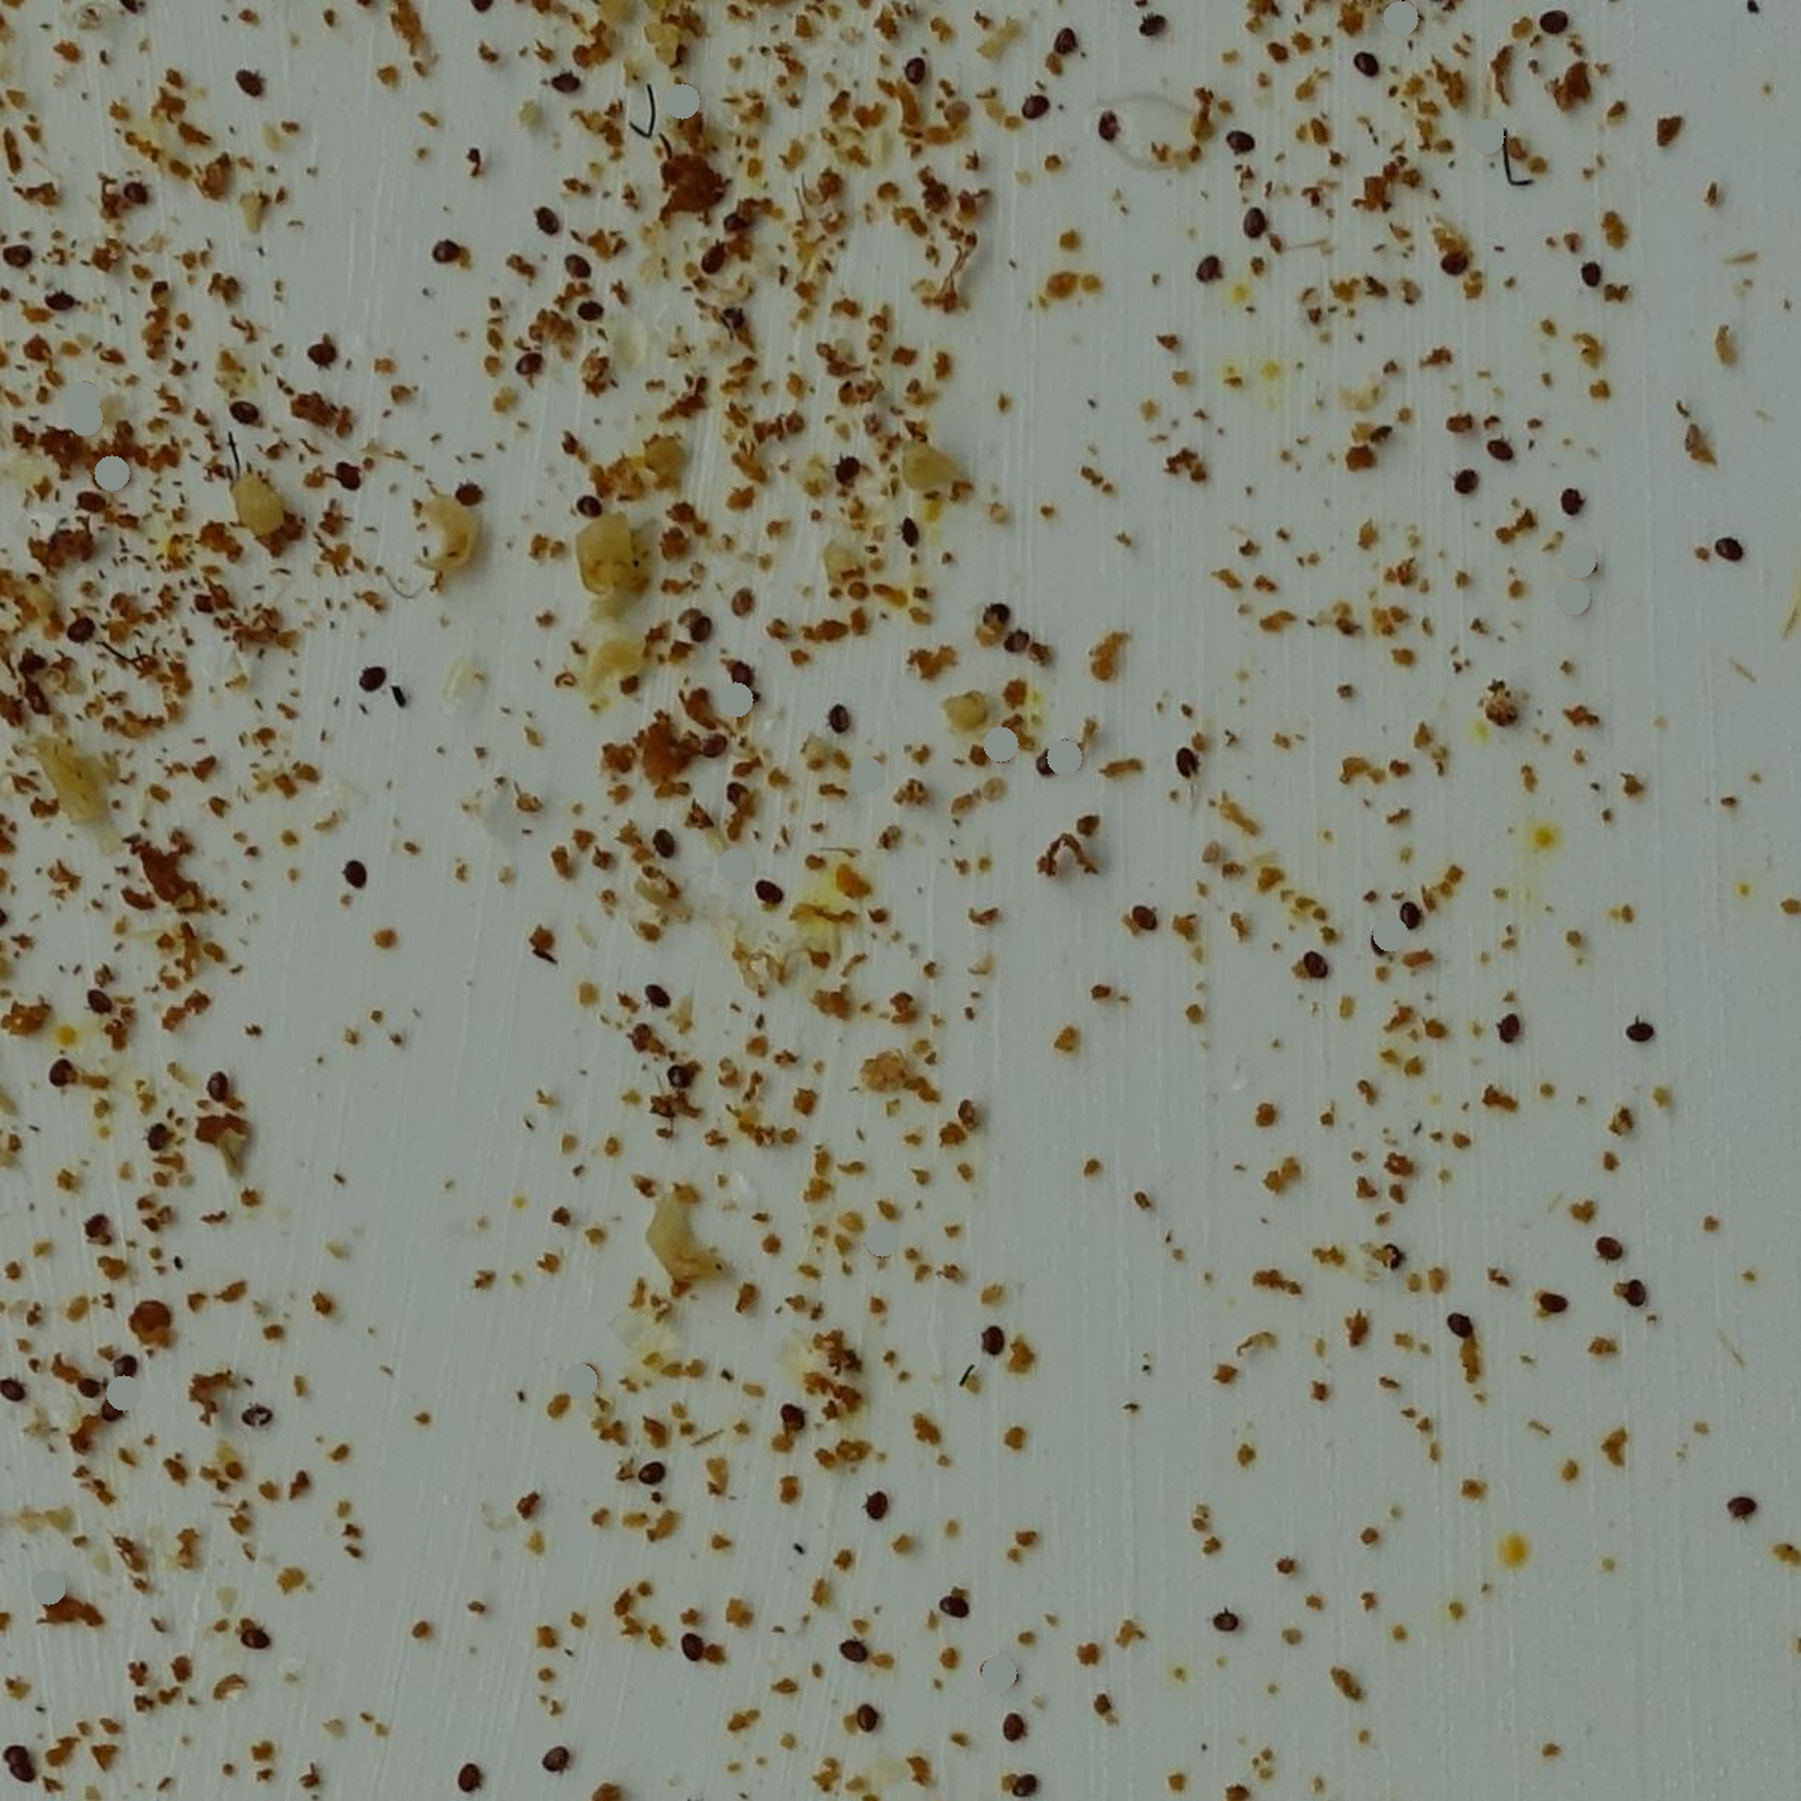Varroa: (1372, 1234, 1417, 1278), (772, 1397, 816, 1441), (1027, 742, 1070, 787), (1537, 3, 1573, 40), (1362, 419, 1397, 454), (1441, 1306, 1473, 1341), (111, 1346, 142, 1379), (333, 460, 361, 490), (1728, 1491, 1756, 1521), (242, 1404, 270, 1432), (1013, 92, 1041, 120), (534, 1747, 562, 1775), (978, 1326, 1004, 1356), (727, 668, 754, 698), (1715, 539, 1742, 567), (1450, 462, 1476, 490), (998, 632, 1024, 660), (1626, 1018, 1653, 1046), (1539, 1278, 1565, 1306), (902, 520, 929, 548), (7, 1758, 33, 1785), (1098, 119, 1125, 145), (515, 351, 541, 378), (1131, 905, 1158, 932), (699, 731, 726, 757), (703, 249, 727, 277), (1310, 953, 1334, 981), (998, 1704, 1023, 1732), (1211, 1611, 1235, 1638), (1366, 935, 1390, 962), (1596, 1239, 1621, 1265), (68, 618, 94, 643), (1399, 902, 1423, 929), (358, 665, 383, 691), (233, 69, 257, 96), (1620, 1280, 1644, 1306), (49, 1064, 74, 1090), (99, 1390, 124, 1417), (835, 458, 859, 483), (242, 1625, 267, 1649), (1239, 209, 1263, 234), (1051, 30, 1075, 54), (200, 1070, 224, 1095), (1229, 130, 1253, 155), (1496, 1016, 1521, 1041), (1194, 261, 1219, 285), (3, 247, 28, 272), (567, 254, 592, 279), (1489, 440, 1514, 465), (986, 604, 1011, 628), (458, 1761, 482, 1788), (650, 985, 673, 1011), (553, 64, 576, 91), (87, 990, 111, 1014), (637, 1460, 660, 1484), (539, 216, 562, 241), (51, 289, 74, 313), (81, 1362, 104, 1387), (455, 477, 478, 501), (81, 491, 106, 515), (312, 340, 335, 364), (826, 708, 849, 732), (1446, 251, 1469, 275), (679, 1629, 703, 1654), (905, 58, 929, 82), (755, 877, 780, 900), (729, 788, 752, 813), (147, 1128, 170, 1151), (684, 615, 708, 638), (856, 1709, 879, 1732), (120, 178, 143, 201), (1357, 53, 1380, 76), (1582, 257, 1605, 280), (1174, 750, 1197, 774), (651, 835, 675, 858), (1559, 491, 1582, 515), (1140, 13, 1163, 36), (442, 244, 465, 267), (668, 1067, 689, 1092), (86, 1224, 107, 1248), (577, 299, 599, 322), (231, 407, 252, 430), (345, 859, 366, 882), (729, 587, 750, 610), (947, 1601, 968, 1623), (2, 1379, 23, 1400), (868, 1498, 889, 1519), (577, 496, 599, 516), (859, 1484, 881, 1504), (843, 1641, 863, 1661)
